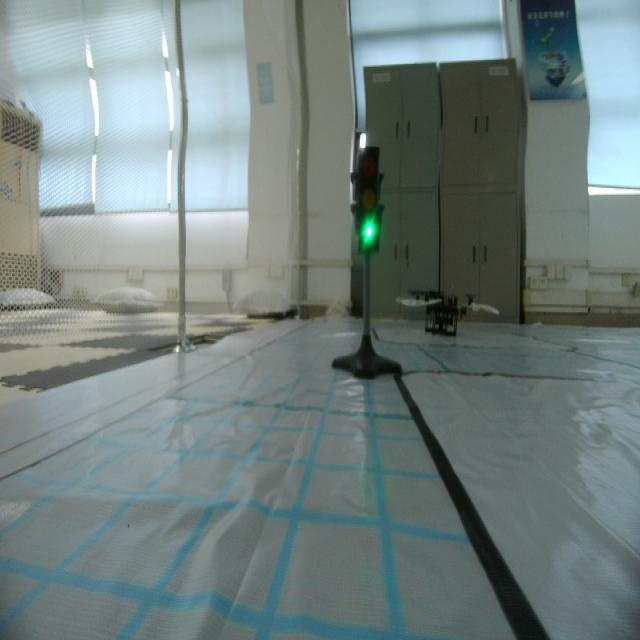green: (348, 142, 390, 252)
